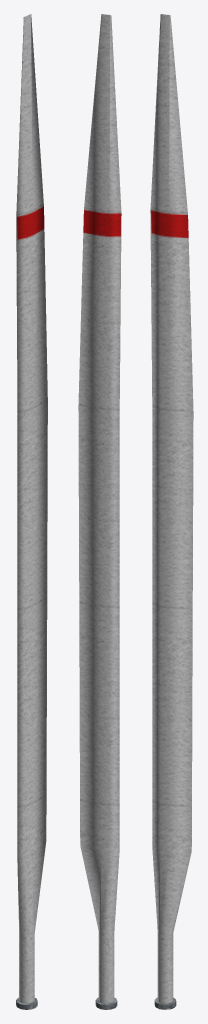
The model's file is windmill_blade.DAE.
3 views of the same model, side by side, from view 1: azimuth 30°, elevation 25°; view 2: azimuth 150°, elevation 25°; view 3: azimuth 330°, elevation 25° (orthographic).
Parts seen in each view (by area): view 1: Cylinder004; view 2: Cylinder004; view 3: Cylinder004.
Part boxes in pixels (x1,y1,x2,y2): Cylinder004: [16, 14, 47, 1009]; Cylinder004: [78, 14, 121, 1009]; Cylinder004: [150, 14, 193, 1009].
Size of the model in its own units: 62.45 by 31.36 by 1583.
